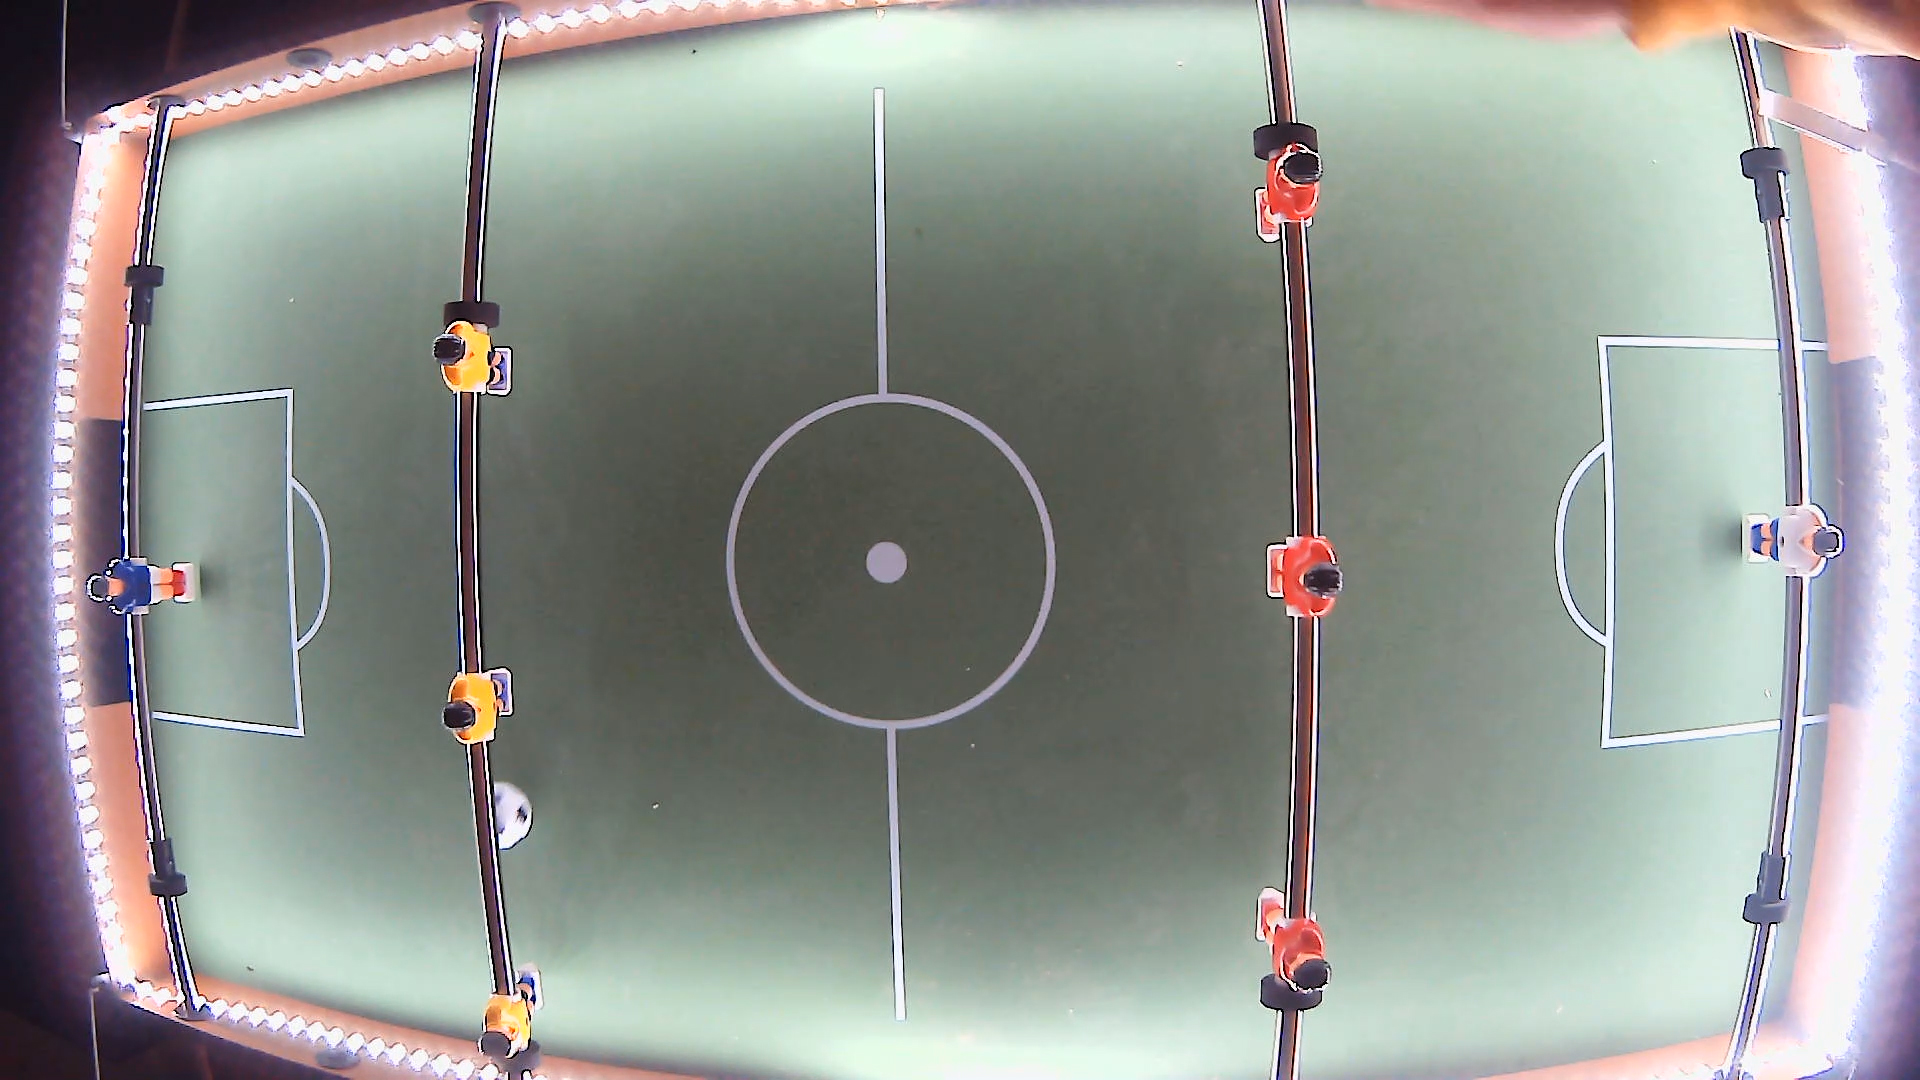Foosball: (467, 782, 533, 851)
